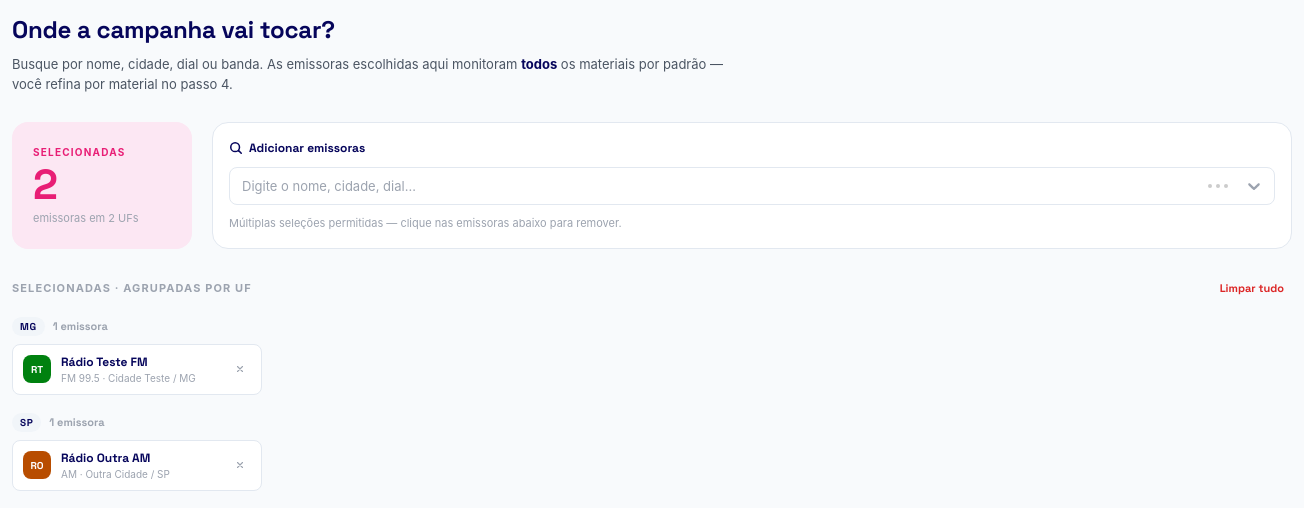
StationsStep — salvar sozinho › remover uma emissora salva a seleção nova depois de 0,5s
The width and height of the screenshot is (1304, 508).
Click the button named "Remover emissora" next to "· Cidade Teste / MG" at (240, 369), box x1=229 y1=358 x2=251 y2=380
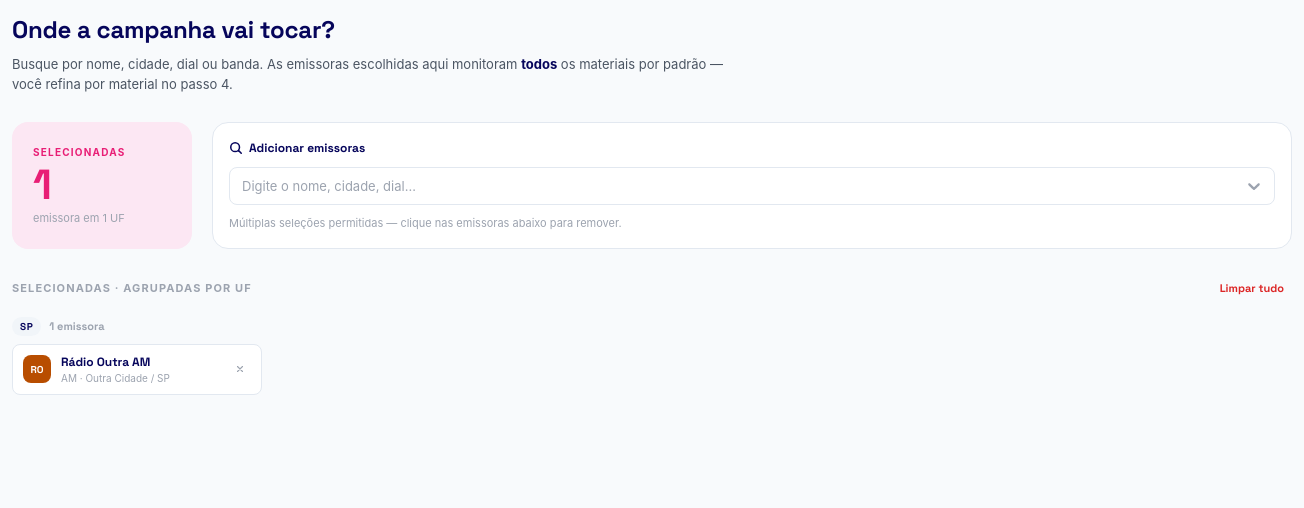
Expected: the text "emissora em 1 UF" is shown, x1=33 y1=211 x2=125 y2=225
